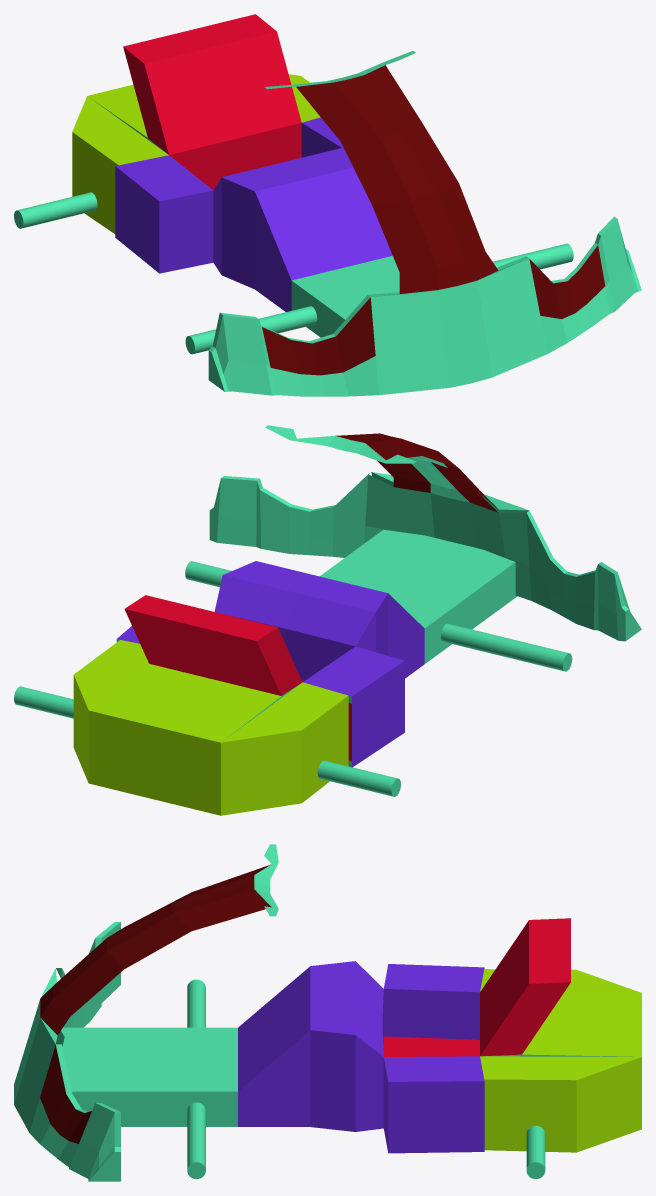
File: CarroLego.fbx
The picture shows the model from 3 angles, top to bottom: view 1: azimuth 30°, elevation 25°; view 2: azimuth 150°, elevation 25°; view 3: azimuth 270°, elevation 25°; orthographic projection.
Parts seen in each view (by area): view 1: Cube; view 2: Cube; view 3: Cube.
Part boxes in pixels (x1,y1,x2,y2): Cube: (14,14,641,396); Cube: (14,425,641,815); Cube: (14,844,641,1181).
Size of the model in its own units: 288 by 145 by 380.
